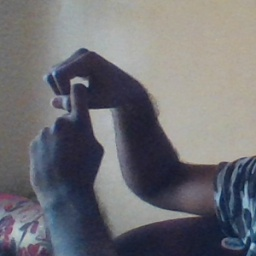Q: (24, 45, 129, 183)
